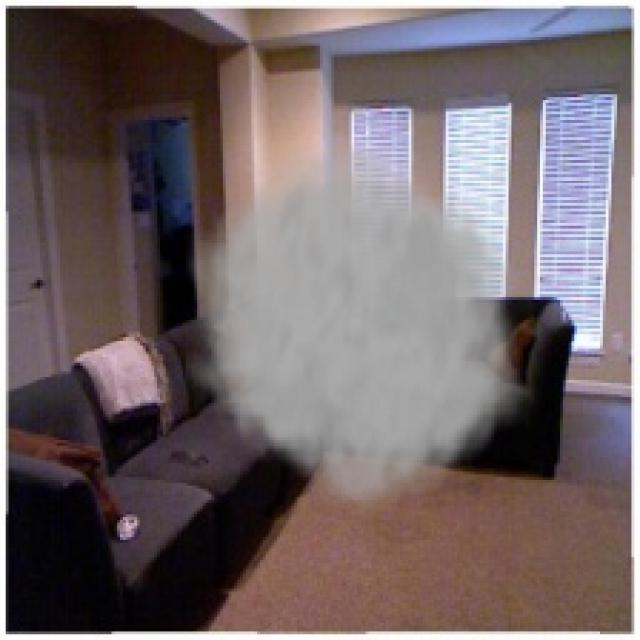smoke: (186, 126, 537, 520)
